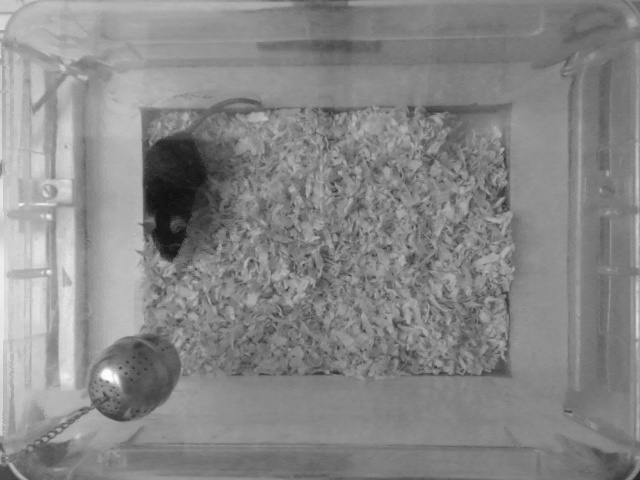mice: (140, 93, 266, 262)
